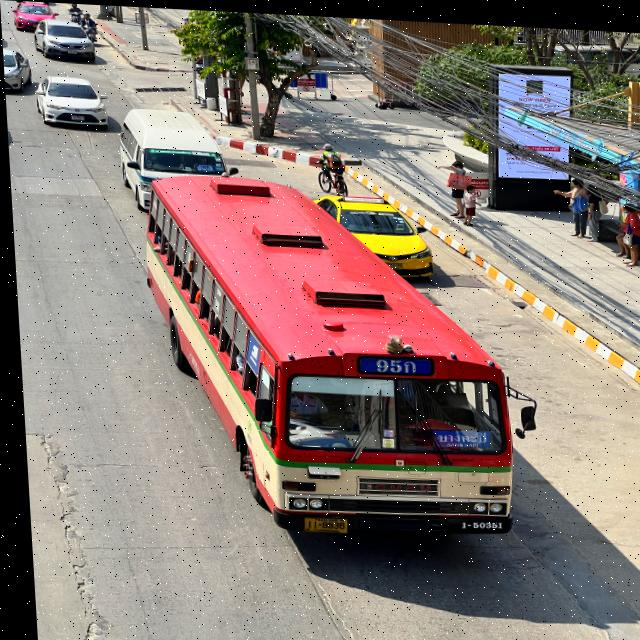BMTA-bus: (134, 168, 514, 537)
Bus-Line-Number: (350, 351, 432, 377)
Destination-Sign-Normal: (428, 422, 487, 445)
